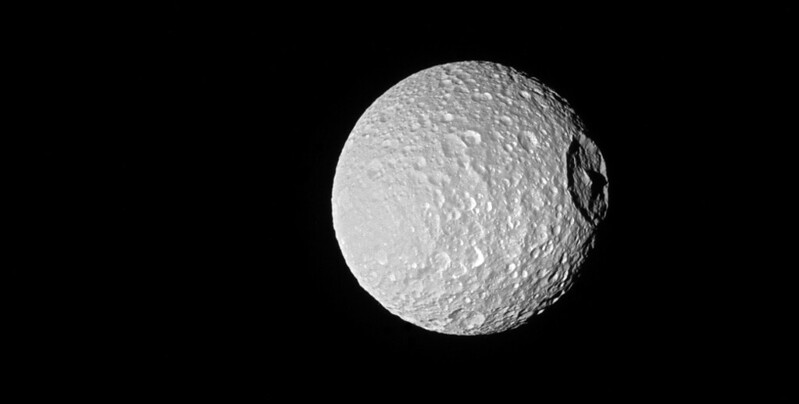crater: (556, 109, 648, 266), (516, 124, 544, 163), (436, 131, 469, 163), (423, 248, 452, 277), (366, 159, 388, 184), (497, 256, 517, 274)
